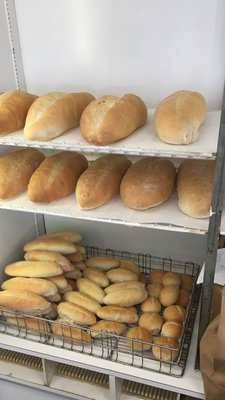salad: (23, 91, 96, 141), (80, 94, 147, 145), (27, 151, 89, 204), (75, 154, 133, 210), (153, 89, 208, 145), (119, 157, 176, 211), (0, 148, 46, 200), (176, 159, 214, 219), (1, 91, 39, 133)
sushi: (153, 90, 208, 146)
